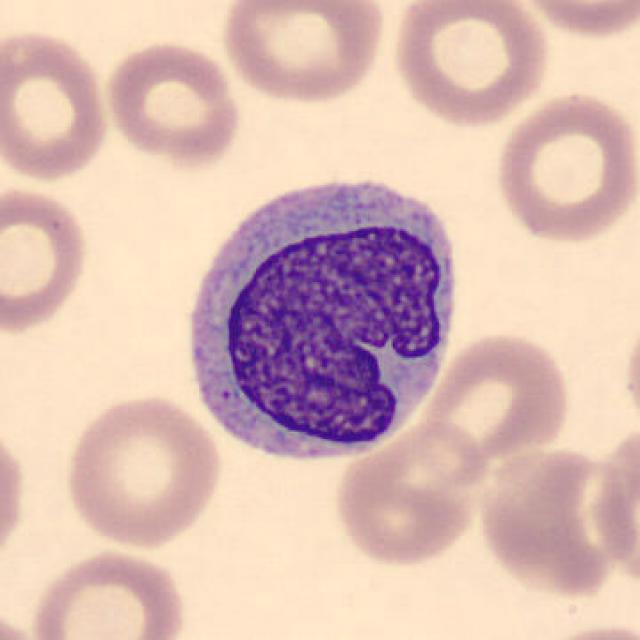Monocyte: (172, 162, 470, 473)
RBC: (58, 390, 225, 550), (473, 439, 633, 603), (330, 416, 490, 570), (491, 88, 638, 247), (418, 328, 574, 469), (387, 0, 554, 130), (100, 39, 243, 171), (217, 0, 389, 108), (0, 25, 114, 187), (26, 546, 190, 640), (0, 180, 94, 340), (512, 0, 638, 41), (0, 416, 32, 575), (618, 299, 640, 446), (526, 619, 638, 640)
